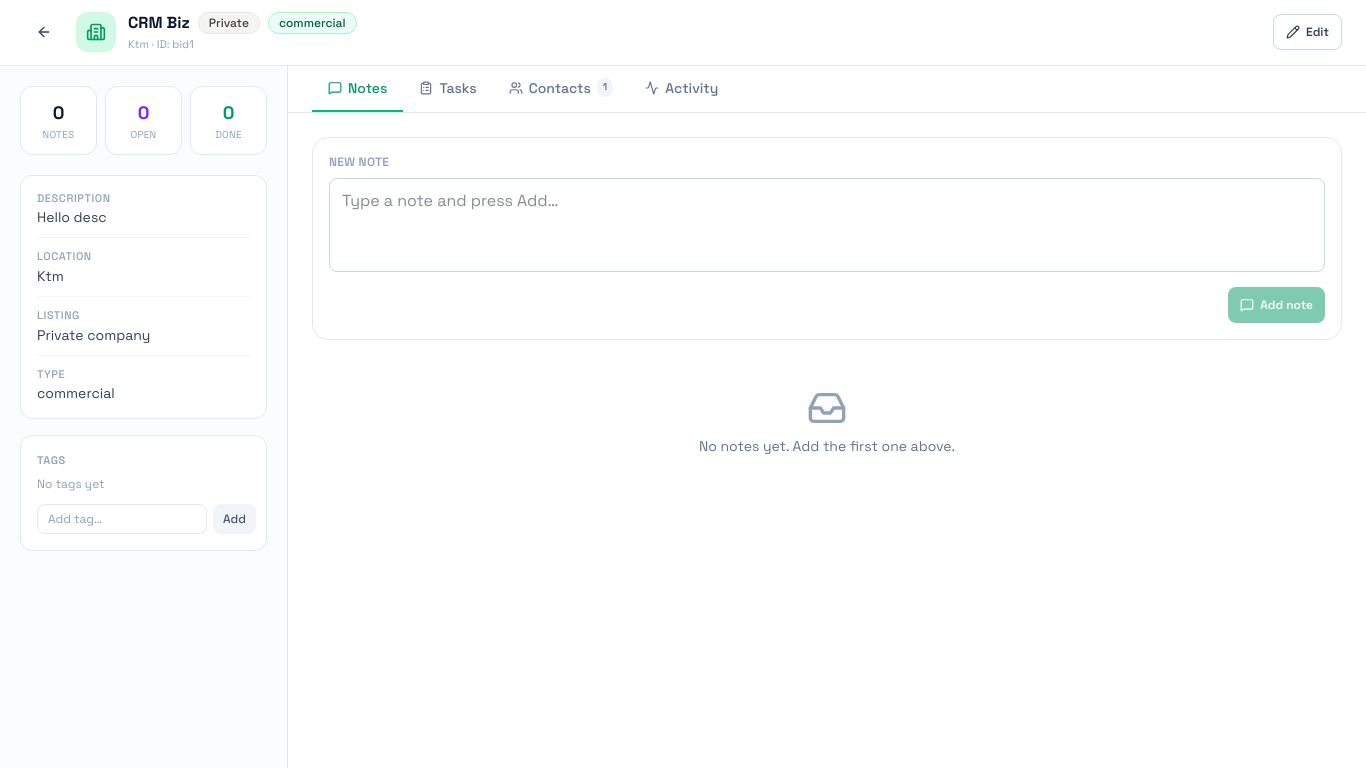
BusinessDetailPage › Contacts tab lists contacts from CRM payload
The image size is (1366, 768).
Expected: the button "Edit" is shown, [1273,14,1342,50]
Click the button "Contacts 1": coordinates (561, 88) [493,66,629,112]
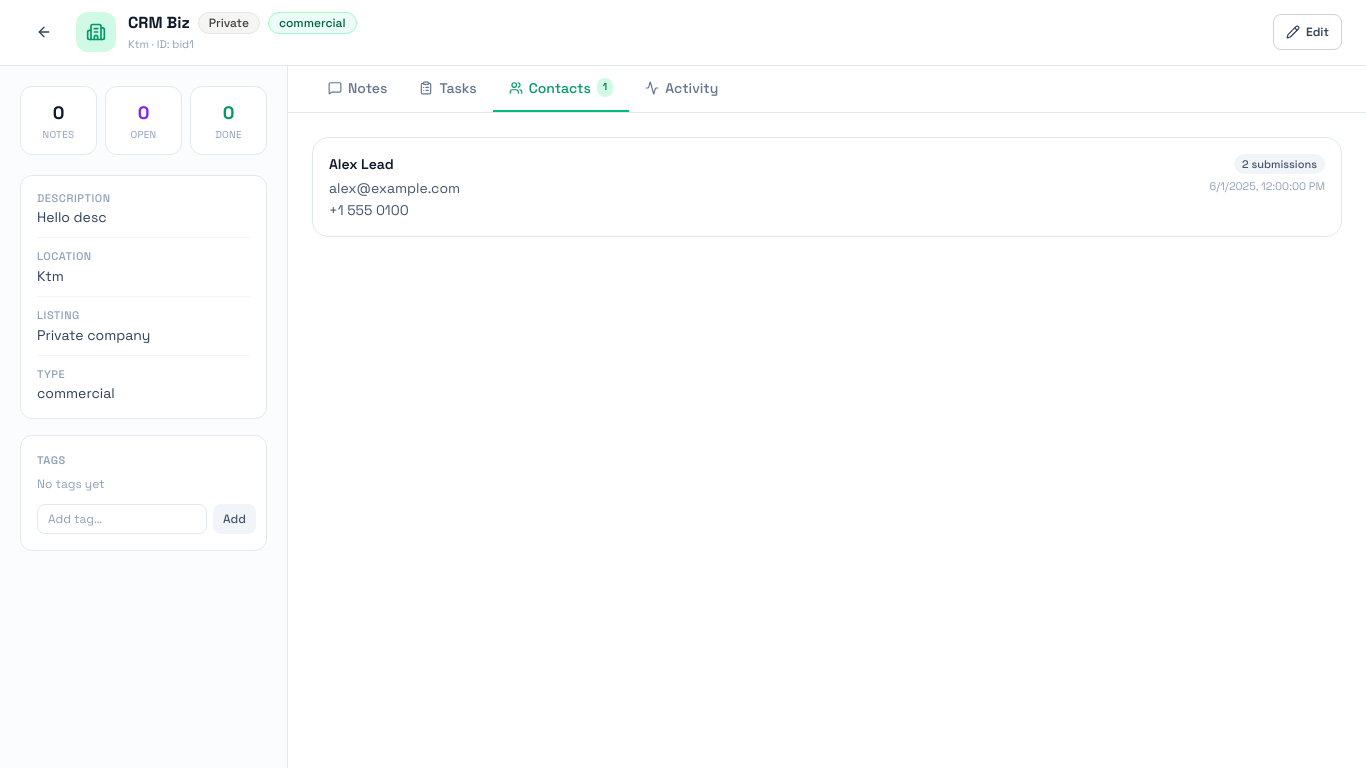
Result: the text "Alex Lead" is shown at [329,154,394,172]
Result: the text "alex@example.com" is shown at [329,178,460,196]
Result: the text "+1 555 0100" is shown at [329,200,409,218]
